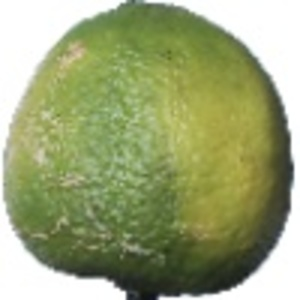limão: (2, 1, 296, 300)
